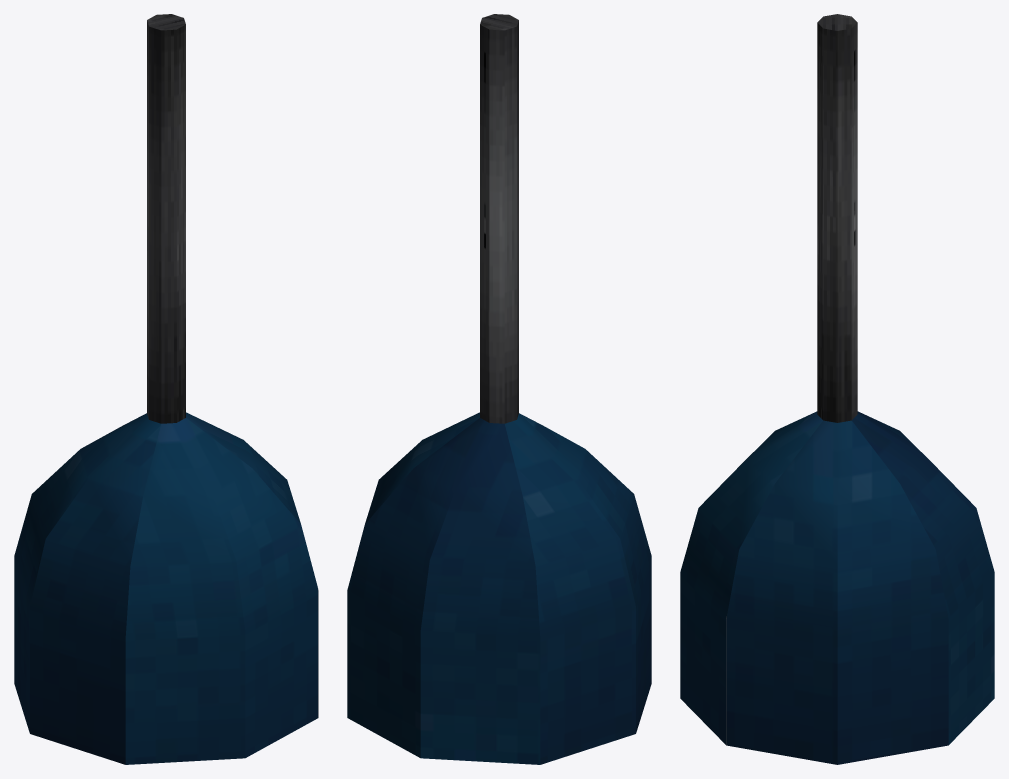
The model's file is Lampara.fbx.
3 views of the same model, side by side, from view 1: azimuth 30°, elevation 25°; view 2: azimuth 150°, elevation 25°; view 3: azimuth 270°, elevation 25° (orthographic).
Visible parts, largest first — view 1: Lampara_foco; view 2: Lampara_foco; view 3: Lampara_foco.
Boxes of the visible parts, x1,y1,x2,y2 form: Lampara_foco: [14, 14, 318, 764]; Lampara_foco: [347, 14, 651, 764]; Lampara_foco: [680, 14, 994, 764].
Size of the model in its own units: 15.61 by 37.87 by 15.61.
Materials: 1 (1 with a texture image).
